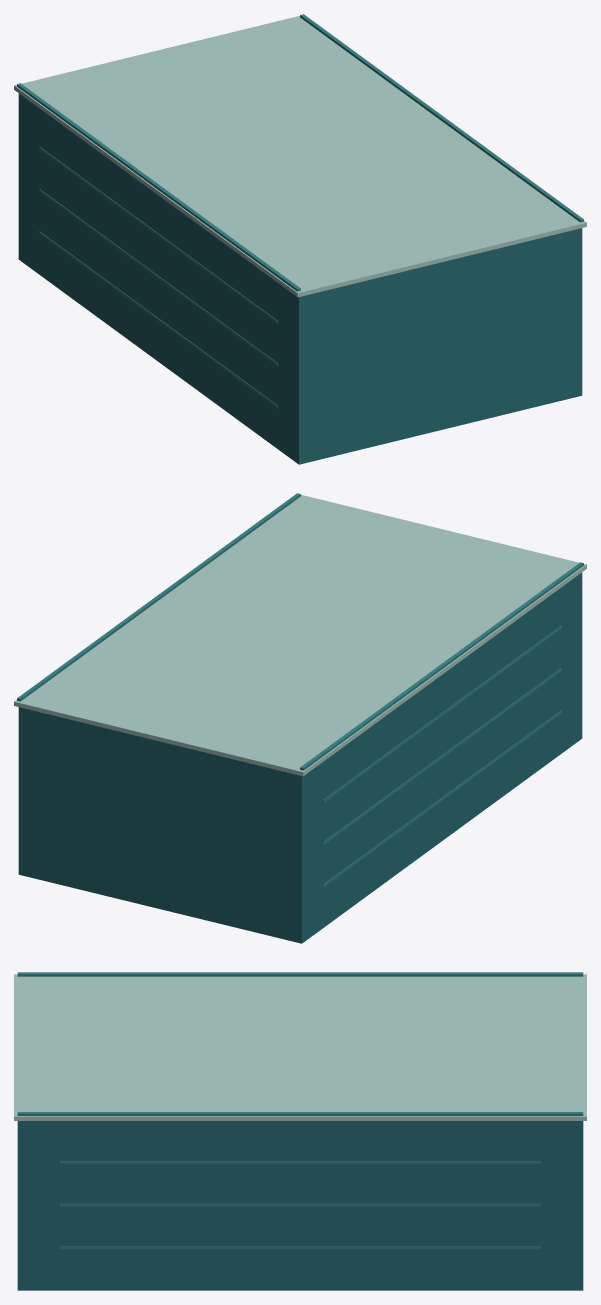
File: roof_wide.glb
The picture shows the model from 3 angles, top to bottom: view 1: azimuth 30°, elevation 25°; view 2: azimuth 150°, elevation 25°; view 3: azimuth 270°, elevation 25°; orthographic projection.
Parts seen in each view (by area): view 1: roof_wide; view 2: roof_wide; view 3: roof_wide.
Boxes of the visible parts, left/top/right/bottom form: roof_wide: left=14, top=14, right=586, bottom=464; roof_wide: left=14, top=493, right=586, bottom=943; roof_wide: left=14, top=972, right=586, bottom=1290.
Size of the model in its own units: 14.3 by 8.31 by 24.3.
